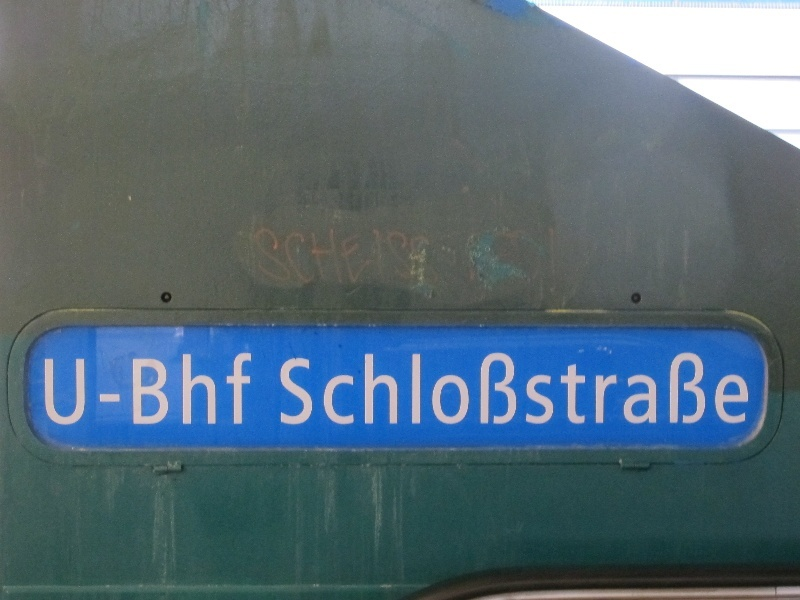text: (289, 343, 304, 435), (305, 343, 320, 435), (321, 343, 336, 435), (337, 343, 352, 435), (353, 343, 368, 435), (369, 343, 384, 435), (385, 343, 400, 435), (401, 343, 416, 435), (417, 343, 432, 435), (433, 343, 448, 435), (449, 343, 464, 435), (465, 343, 480, 435), (481, 343, 496, 435), (497, 343, 512, 435), (513, 343, 528, 435), (529, 343, 544, 435), (545, 343, 560, 435), (561, 343, 576, 435), (577, 343, 592, 435), (593, 343, 608, 435), (609, 343, 624, 435), (625, 343, 640, 435), (641, 343, 656, 435), (657, 343, 672, 435), (673, 343, 688, 435), (689, 343, 704, 435), (705, 343, 720, 435), (721, 343, 736, 435), (737, 343, 752, 435), (49, 348, 64, 431), (65, 348, 80, 431), (81, 348, 96, 431), (97, 348, 112, 431), (113, 348, 128, 431), (129, 348, 144, 431), (145, 348, 160, 431), (161, 348, 176, 431), (177, 348, 192, 431), (193, 348, 208, 431), (209, 348, 224, 431), (225, 348, 240, 431), (241, 348, 256, 431), (277, 343, 288, 435), (257, 224, 272, 291), (273, 224, 288, 291), (289, 224, 304, 291), (305, 224, 320, 291), (321, 224, 336, 291), (337, 224, 352, 291), (353, 224, 368, 291), (369, 224, 384, 291), (385, 224, 400, 291), (401, 224, 416, 291), (417, 224, 432, 291), (433, 224, 443, 291), (41, 348, 48, 431), (251, 224, 256, 291)
